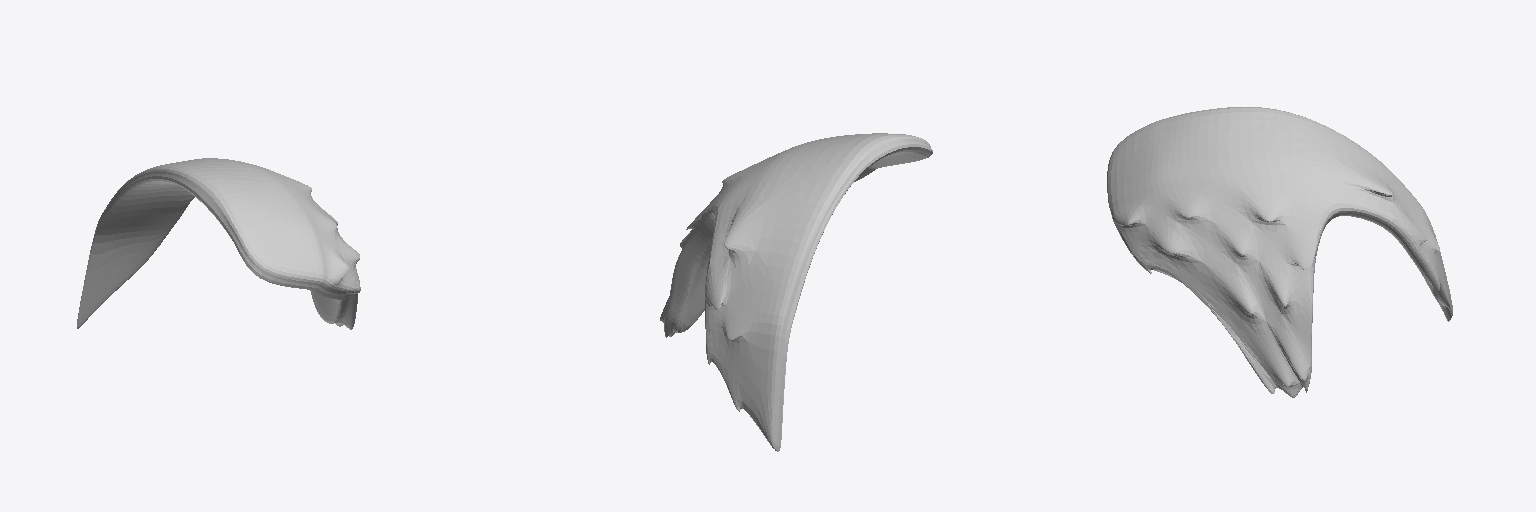
The model's file is mlp Hair 1 2.11.obj.
3 views of the same model, side by side, from view 1: azimuth 30°, elevation 25°; view 2: azimuth 150°, elevation 25°; view 3: azimuth 270°, elevation 25° (orthographic).
Parts seen in each view (by area): view 1: Plane.003_Plane.002; view 2: Plane.003_Plane.002; view 3: Plane.003_Plane.002.
Boxes of the visible parts, box(x1,y1,x2,y2) form: Plane.003_Plane.002: box(77, 158, 360, 329); Plane.003_Plane.002: box(660, 133, 932, 451); Plane.003_Plane.002: box(1107, 107, 1452, 397).
Bounding box in the file's own units: 19.67 × 21.79 × 30.64.